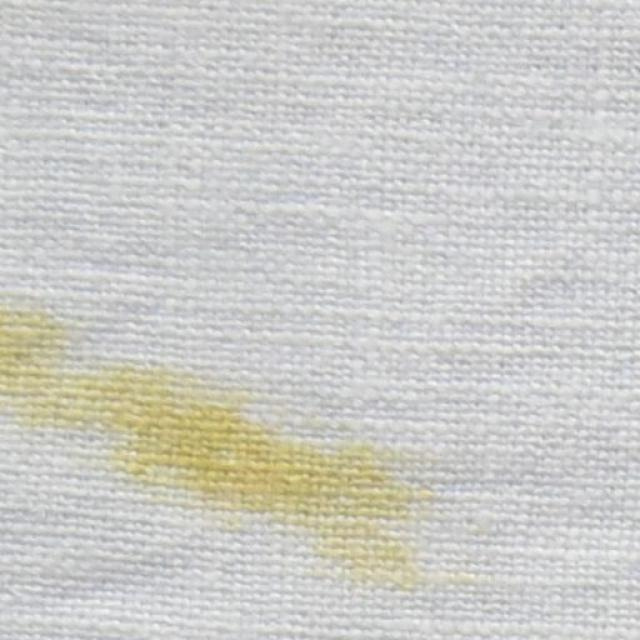Stain: (0, 314, 426, 574)
